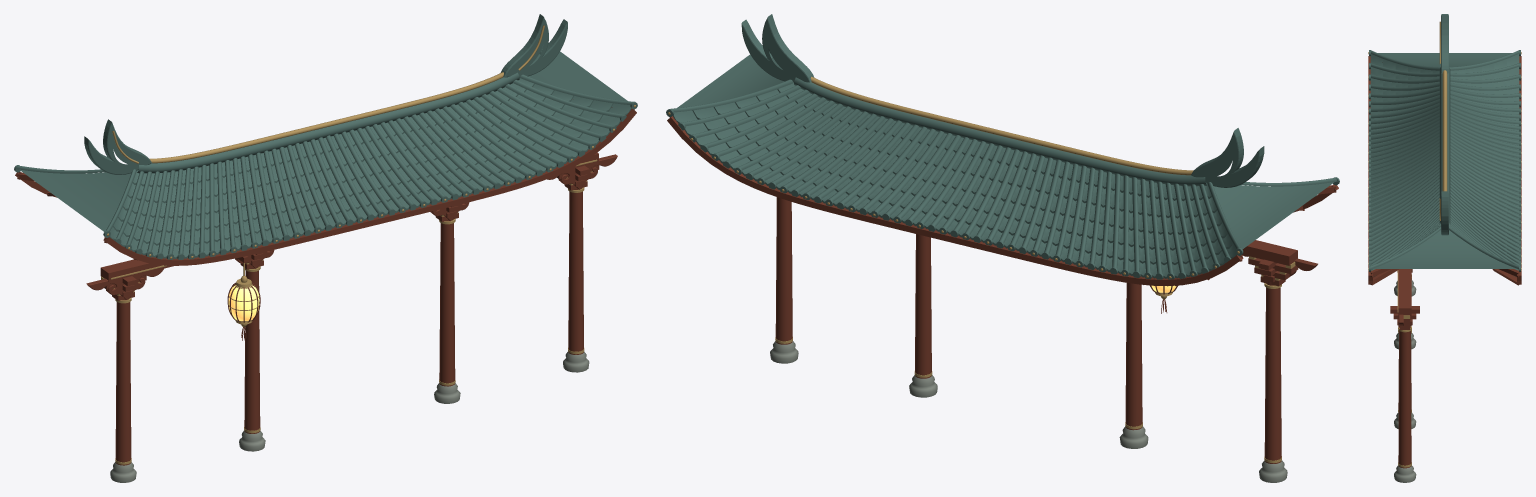
Rendered from MoonGatePorch.glb.
3 renders of one model, left to right at view 1: azimuth 30°, elevation 25°; view 2: azimuth 150°, elevation 25°; view 3: azimuth 270°, elevation 25°, orthographic. The views are drawn at different scales.
Parts seen in each view (by area): view 1: Glazed roof tile, Lacquered timber, Weathered bronze, Carved stone, Lantern paper; view 2: Glazed roof tile, Lacquered timber, Weathered bronze, Carved stone; view 3: Glazed roof tile, Lacquered timber, Weathered bronze, Carved stone.
Part boxes in pixels (x1,y1,x2,y2): Glazed roof tile: (14,14,637,259); Lacquered timber: (15,107,636,465); Weathered bronze: (101,25,636,464); Carved stone: (110,351,589,482); Lantern paper: (228,285,259,320); Glazed roof tile: (666,14,1339,279); Lacquered timber: (667,116,1338,463); Weathered bronze: (668,76,1295,463); Carved stone: (770,341,1287,482); Glazed roof tile: (1369,14,1520,271); Lacquered timber: (1368,56,1521,468); Weathered bronze: (1368,21,1521,467); Carved stone: (1394,280,1416,482).
Size of the model in its own units: 18.39 by 11.1 by 5.46.
